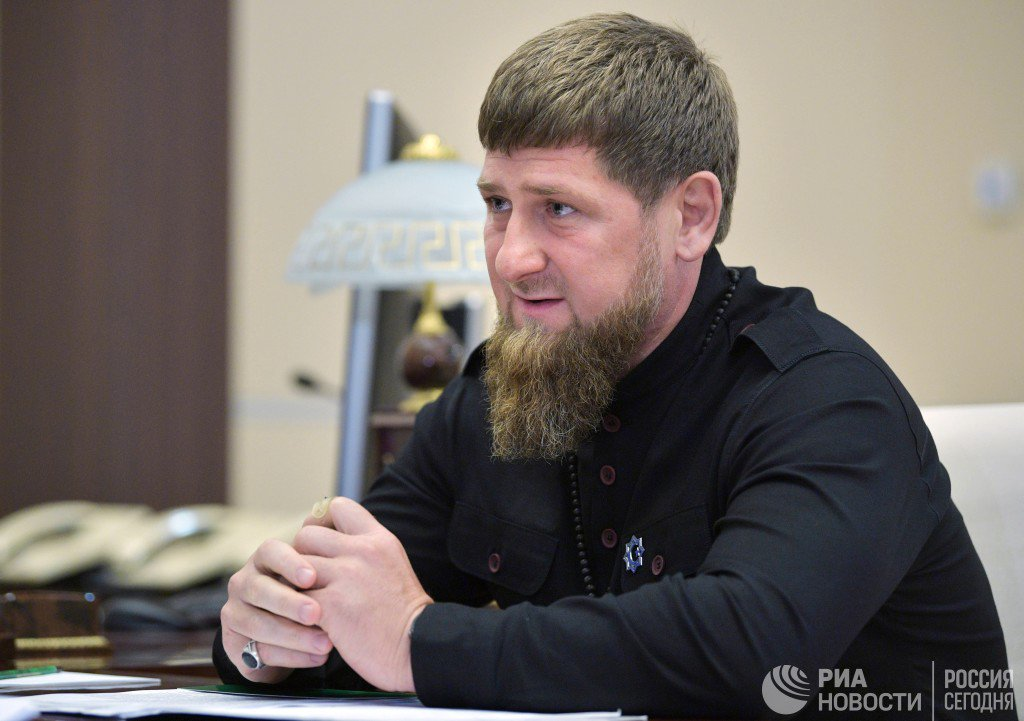beard: (474, 278, 664, 468)
